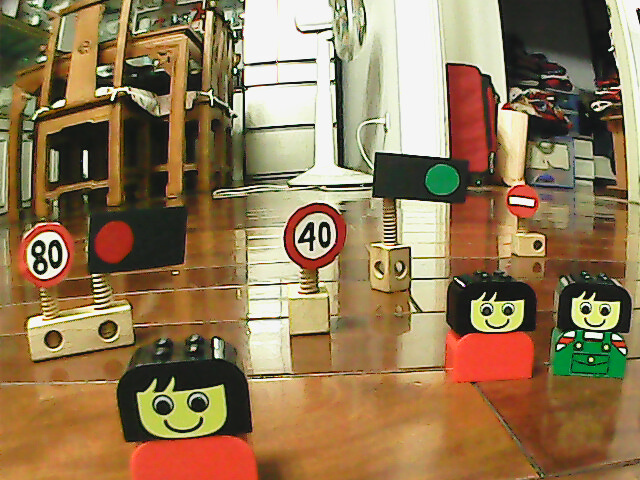Green Traffic Light: (419, 158, 464, 201)
Person: (115, 332, 263, 480), (442, 267, 540, 384)
Red Traffic Light: (89, 214, 139, 270)
Speed Limit 40: (281, 200, 350, 271)
Speed Limit 80: (15, 218, 76, 290)
Stop Sign: (503, 182, 542, 220)
